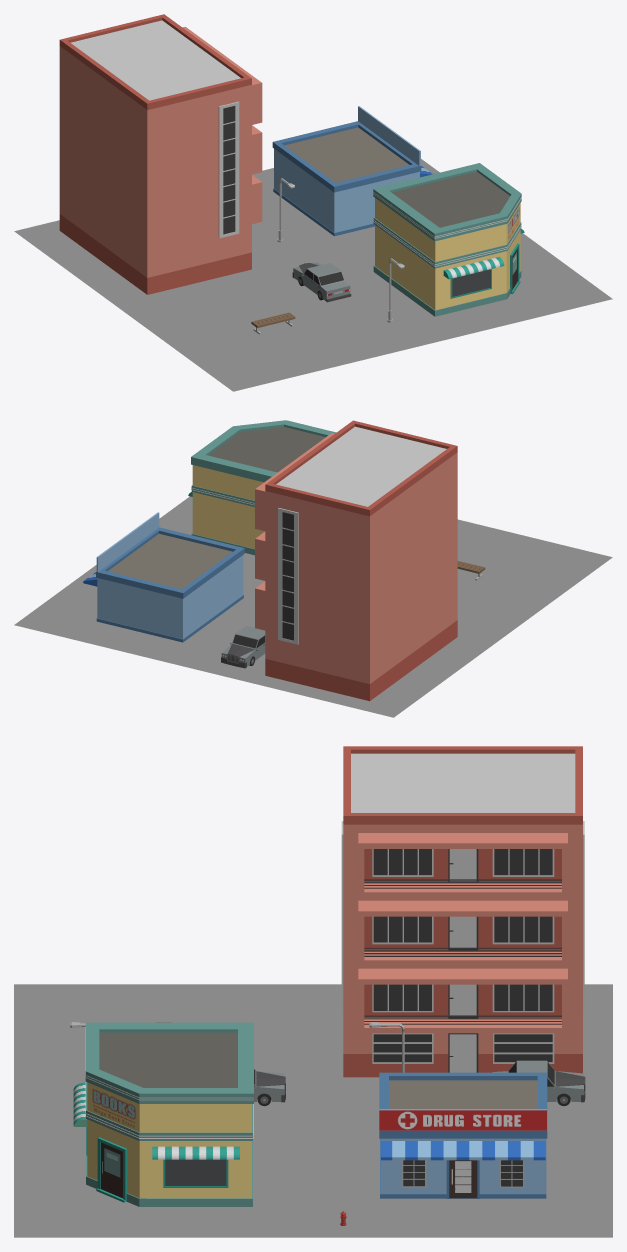
Rendered from remix-mixed-main-street.glb.
The picture shows the model from 3 angles, top to bottom: view 1: azimuth 30°, elevation 25°; view 2: azimuth 150°, elevation 25°; view 3: azimuth 270°, elevation 25°; orthographic projection. The views are drawn at different scales.
Parts seen in each view (by area): view 1: Building_Residential_color01_Cube.013, Road Concrete Tile_Plane.010, Building_Books Shop_Cube.018, Building_Drug Store_Cube.008, Vehicle_Car_Cube.050; view 2: Building_Residential_color01_Cube.013, Road Concrete Tile_Plane.010, Building_Drug Store_Cube.008, Building_Books Shop_Cube.018, Vehicle_Car_Cube.050; view 3: Building_Residential_color01_Cube.013, Road Concrete Tile_Plane.010, Building_Books Shop_Cube.018, Building_Drug Store_Cube.008, Vehicle_Car_Cube.050 (×2).
Part boxes in pixels (x1=…): Building_Residential_color01_Cube.013: x1=59, y1=14, x2=262, y2=294; Road Concrete Tile_Plane.010: x1=14, y1=159, x2=612, y2=391; Building_Books Shop_Cube.018: x1=373, y1=163, x2=524, y2=316; Building_Drug Store_Cube.008: x1=272, y1=106, x2=432, y2=236; Vehicle_Car_Cube.050: x1=292, y1=262, x2=351, y2=302; Building_Residential_color01_Cube.013: x1=255, y1=420, x2=457, y2=701; Road Concrete Tile_Plane.010: x1=14, y1=496, x2=612, y2=717; Building_Drug Store_Cube.008: x1=83, y1=512, x2=244, y2=642; Building_Books Shop_Cube.018: x1=188, y1=420, x2=336, y2=555; Vehicle_Car_Cube.050: x1=221, y1=625, x2=265, y2=668; Building_Residential_color01_Cube.013: x1=341, y1=746, x2=584, y2=1077; Road Concrete Tile_Plane.010: x1=14, y1=984, x2=612, y2=1237; Building_Books Shop_Cube.018: x1=73, y1=1022, x2=253, y2=1206; Building_Drug Store_Cube.008: x1=379, y1=1072, x2=547, y2=1198; Vehicle_Car_Cube.050 (×2): x1=254, y1=1060, x2=585, y2=1106.
Size of the model in its own units: 40 by 19.24 by 40.
Materials: 6 (6 with a texture image).
